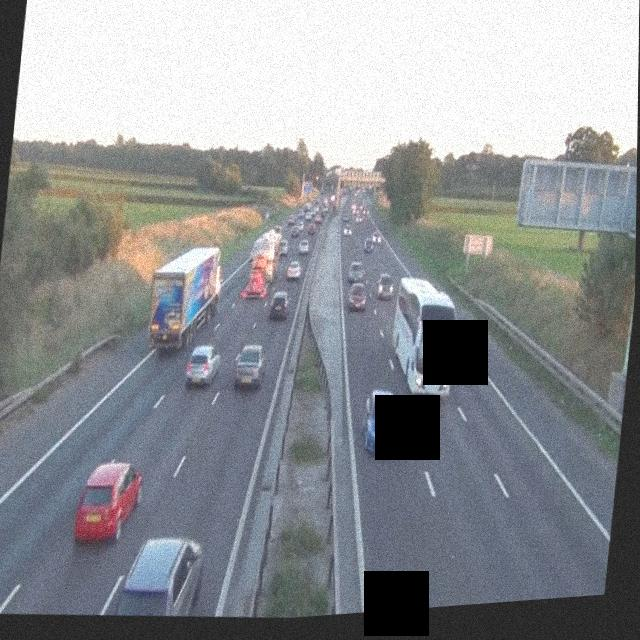bus: (385, 271, 463, 402)
car: (107, 530, 204, 623), (72, 457, 144, 548), (360, 386, 402, 454), (184, 342, 222, 388), (232, 341, 267, 389), (346, 282, 367, 312), (269, 289, 289, 320), (377, 273, 395, 298), (347, 259, 363, 285), (285, 258, 301, 281), (297, 235, 311, 253), (287, 232, 298, 250), (365, 235, 377, 251), (308, 219, 317, 234), (316, 209, 325, 224), (342, 222, 351, 236)
truck: (145, 240, 226, 354), (243, 228, 282, 298)
